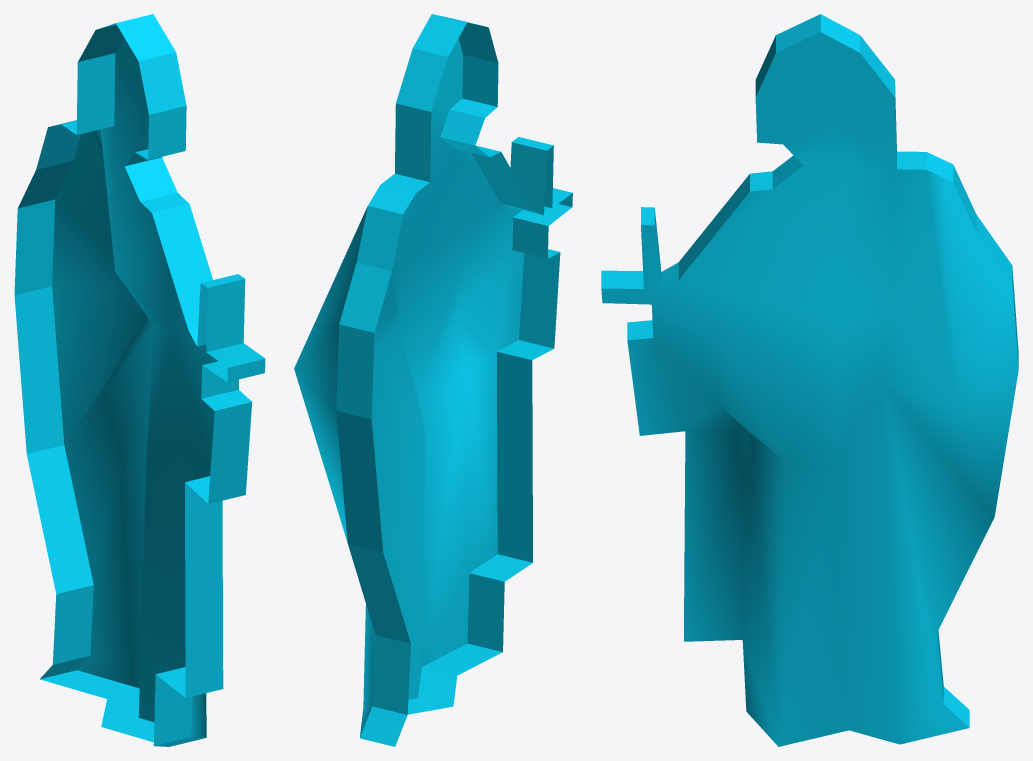
The picture shows the model from 3 angles, left to right: view 1: azimuth 30°, elevation 25°; view 2: azimuth 150°, elevation 25°; view 3: azimuth 270°, elevation 25°; orthographic projection. The views are drawn at different scales.
Parts seen in each view (by area): view 1: Object072; view 2: Object072; view 3: Object072.
Part boxes in pixels (x1,y1,x2,y2): Object072: (14,14,265,746); Object072: (294,14,572,746); Object072: (601,14,1018,746).
Size of the model in its own units: 67.81 by 404 by 218.
